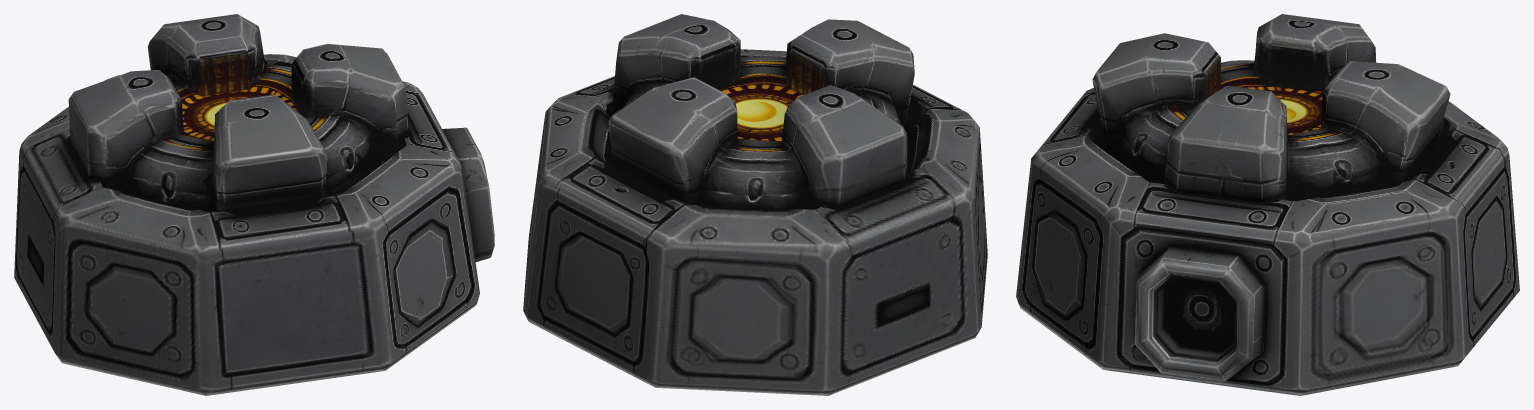
File: cold-iron-v2-electrical-terminal-b.glb
3 renders of one model, left to right at view 1: azimuth 30°, elevation 25°; view 2: azimuth 150°, elevation 25°; view 3: azimuth 270°, elevation 25°, orthographic. The views are drawn at different scales.
Visible parts, largest first — view 1: tripo_node_c0e76094-b1ed-4ae5-a76d-8eca092672c8; view 2: tripo_node_c0e76094-b1ed-4ae5-a76d-8eca092672c8; view 3: tripo_node_c0e76094-b1ed-4ae5-a76d-8eca092672c8.
Part boxes in pixels (x1=…): tripo_node_c0e76094-b1ed-4ae5-a76d-8eca092672c8: x1=14, y1=14, x2=494, y2=395; tripo_node_c0e76094-b1ed-4ae5-a76d-8eca092672c8: x1=523, y1=14, x2=987, y2=395; tripo_node_c0e76094-b1ed-4ae5-a76d-8eca092672c8: x1=1016, y1=14, x2=1519, y2=395.
Size of the model in its own units: 1.04 by 0.5689 by 1.03.
Materials: 1 (1 with a texture image).
